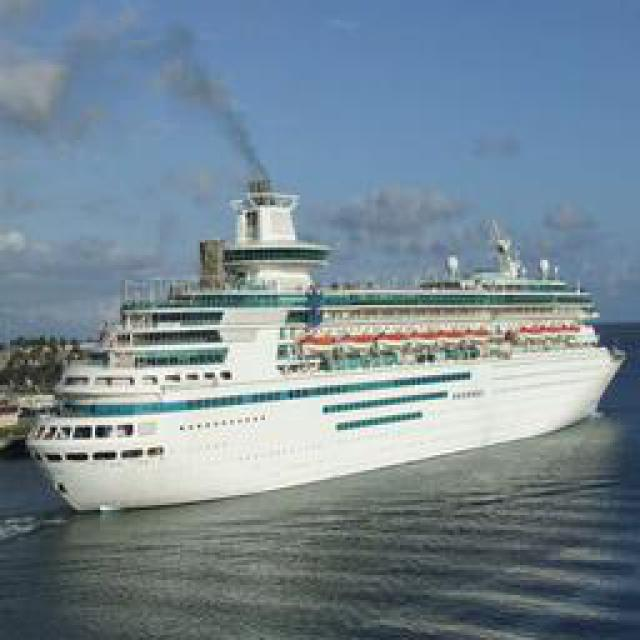Ship: (32, 159, 615, 522)
